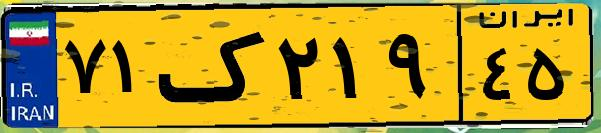1: (330, 28, 385, 110), (110, 28, 158, 98)
2: (270, 28, 330, 110)
4: (475, 38, 525, 113)
5: (525, 38, 570, 115)
7: (57, 26, 110, 100)
9: (385, 28, 445, 110)
ک: (158, 12, 270, 120)
